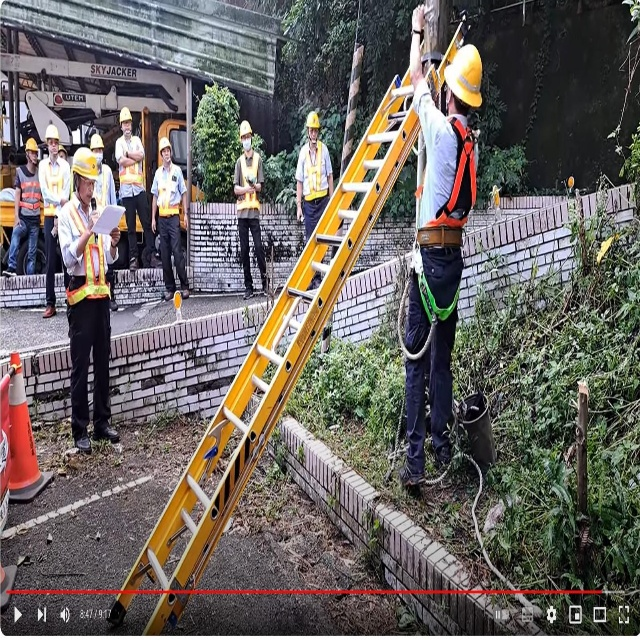Arnes_seguridad: (413, 113, 479, 324)
